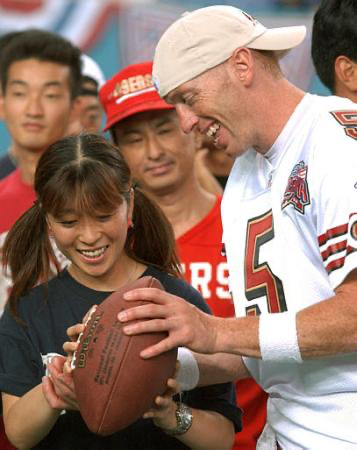Face: (157, 78, 255, 161), (119, 114, 198, 193), (50, 205, 123, 282), (5, 75, 69, 151)
